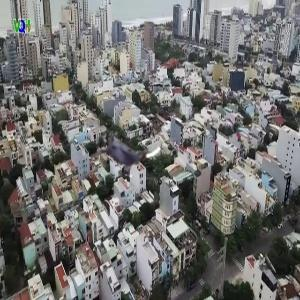drone: (91, 119, 161, 189)
